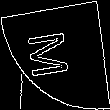M_E: (30, 28, 80, 82)
